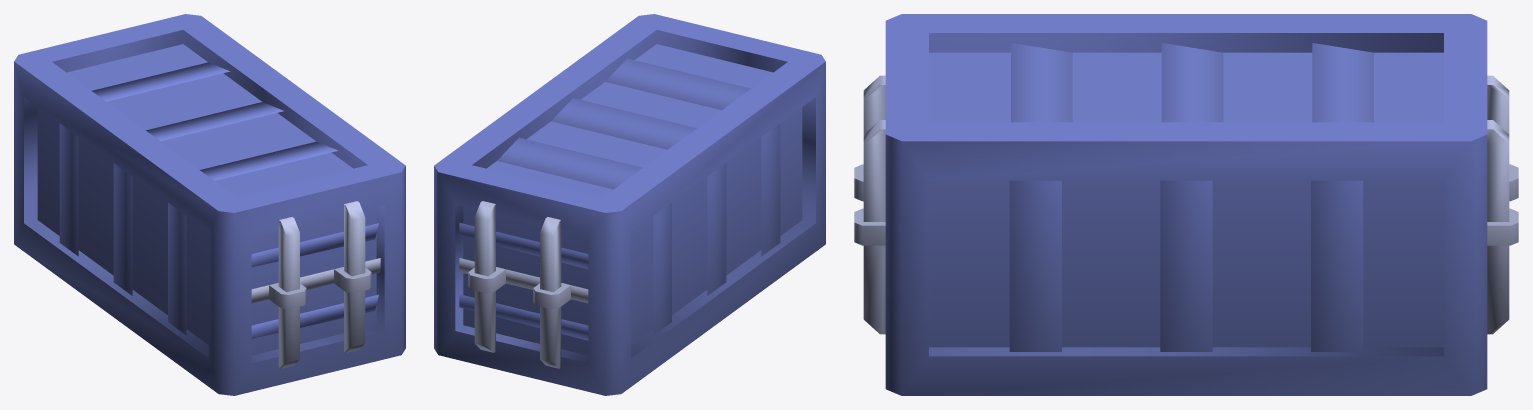
Rendered from shipping-container-b.lod.glb.
3 views of the same model, side by side, from view 1: azimuth 30°, elevation 25°; view 2: azimuth 150°, elevation 25°; view 3: azimuth 270°, elevation 25° (orthographic). The views are drawn at different scales.
Visible parts, largest first — view 1: shipping-container-b; view 2: shipping-container-b; view 3: shipping-container-b.
Boxes of the visible parts, x1,y1,x2,y2 form: shipping-container-b: (14, 14, 405, 395); shipping-container-b: (434, 14, 825, 395); shipping-container-b: (854, 14, 1518, 395).
Size of the model in its own units: 0.3726 by 0.3481 by 0.8226.
Materials: 1 (1 with a texture image).
